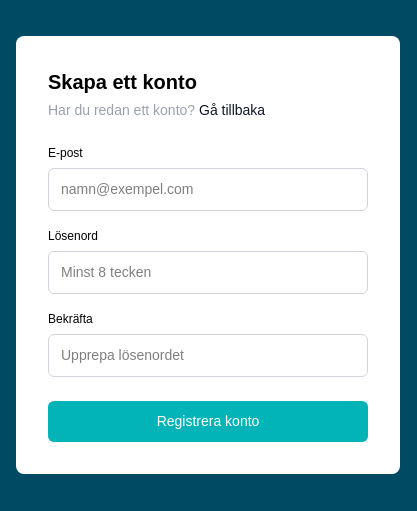
SignupPage › Shows error if password is less than 8 characters
Type "test@test.com" into the field labelled "E-post". click: (208, 190)
box: x1=48 y1=168 x2=368 y2=211
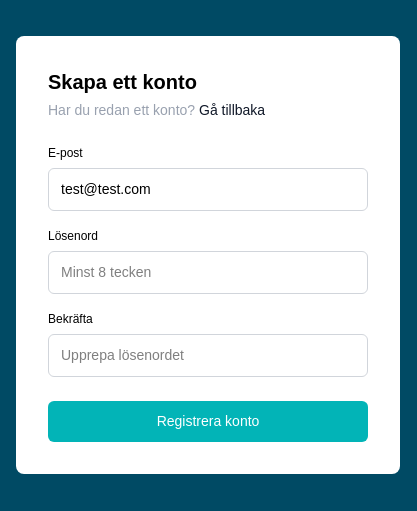
Type "short" into the password field labelled "Lösenord". click: (208, 272)
box: x1=48 y1=251 x2=368 y2=294
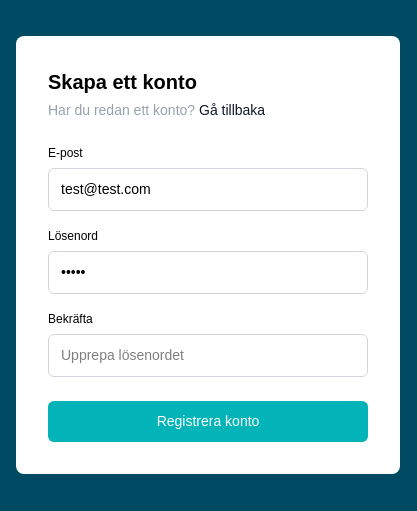
Click the button "Registrera konto". click: (208, 422)
box: x1=48 y1=401 x2=368 y2=442
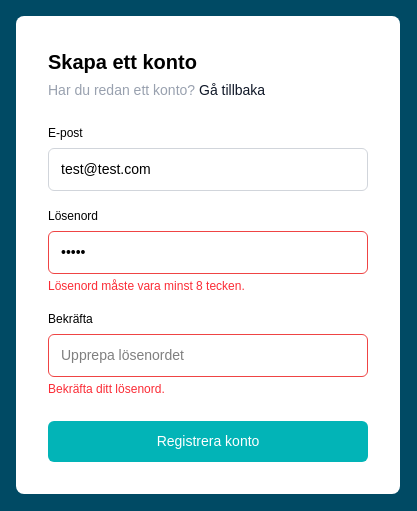
expect the text "Lösenord måste vara minst 8 tecken." is shown: met, box x1=48 y1=279 x2=245 y2=293
